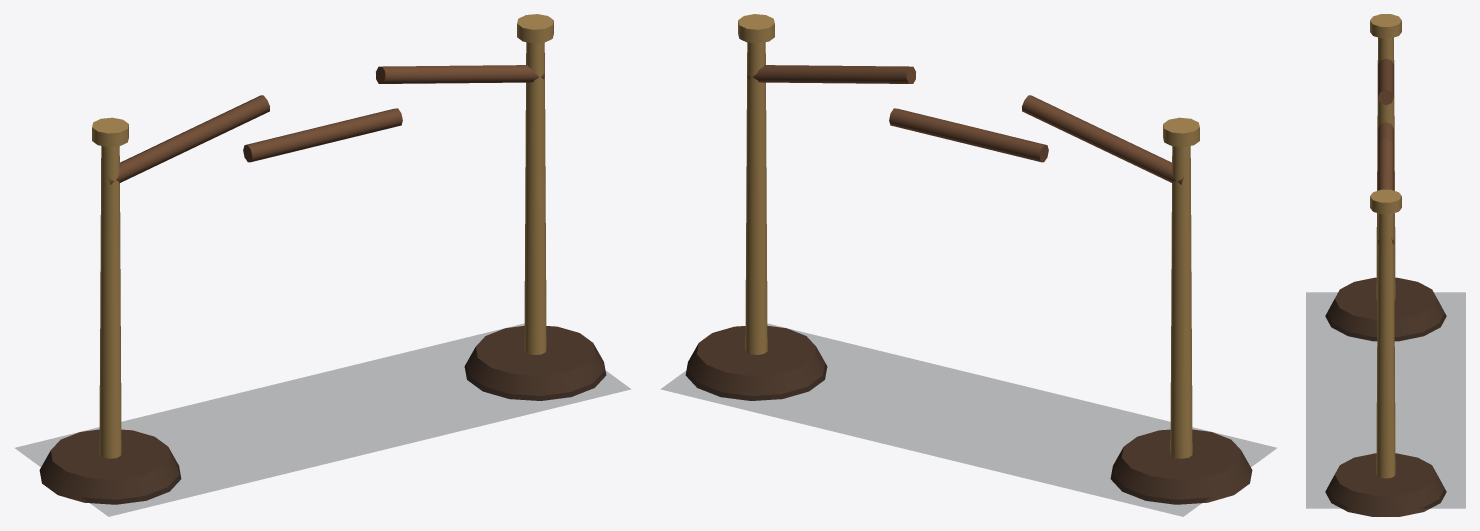
File: hp_room_rm_museum_stanchion.glb
3 renders of one model, left to right at view 1: azimuth 30°, elevation 25°; view 2: azimuth 150°, elevation 25°; view 3: azimuth 270°, elevation 25°, orthographic. The views are drawn at different scales.
Visible parts, largest first — view 1: contact_shadow, post_base_-0.65, post_base_0.65, post_-0.65, post_0.65, rope_a, rope_b, rope_c, post_cap_0.65, post_cap_-0.65; view 2: contact_shadow, post_base_-0.65, post_base_0.65, post_-0.65, post_0.65, rope_a, rope_b, rope_c, post_cap_0.65, post_cap_-0.65; view 3: contact_shadow, post_base_0.65, post_base_-0.65, post_0.65, post_-0.65, rope_c, post_cap_0.65, post_cap_-0.65, rope_a, rope_b.
Part boxes in pixels (box(x1,y1,x2,y2)): contact_shadow: box(15, 324, 630, 516); post_base_-0.65: box(39, 429, 181, 504); post_base_0.65: box(464, 325, 606, 400); post_-0.65: box(99, 146, 121, 458); post_0.65: box(524, 42, 546, 354); rope_a: box(108, 95, 269, 184); rope_b: box(243, 108, 402, 162); rope_c: box(376, 65, 544, 83); post_cap_0.65: box(517, 14, 553, 43); post_cap_-0.65: box(92, 117, 128, 147); contact_shadow: box(661, 324, 1276, 516); post_base_-0.65: box(1110, 429, 1252, 504); post_base_0.65: box(685, 325, 827, 400); post_-0.65: box(1170, 146, 1192, 458); post_0.65: box(745, 42, 767, 354); rope_a: box(1022, 95, 1183, 184); rope_b: box(889, 108, 1048, 162); rope_c: box(747, 65, 915, 83); post_cap_0.65: box(738, 14, 774, 43); post_cap_-0.65: box(1163, 117, 1199, 147); contact_shadow: box(1306, 292, 1465, 508); post_base_0.65: box(1325, 453, 1446, 516); post_base_-0.65: box(1325, 277, 1446, 341); post_0.65: box(1376, 213, 1395, 478); post_-0.65: box(1376, 37, 1395, 299); rope_c: box(1378, 139, 1393, 243); post_cap_0.65: box(1370, 189, 1401, 214); post_cap_-0.65: box(1370, 14, 1401, 38); rope_a: box(1378, 58, 1393, 105); rope_b: box(1378, 122, 1393, 144).
Size of the model in its own units: 1.67 by 1.02 by 0.5.
